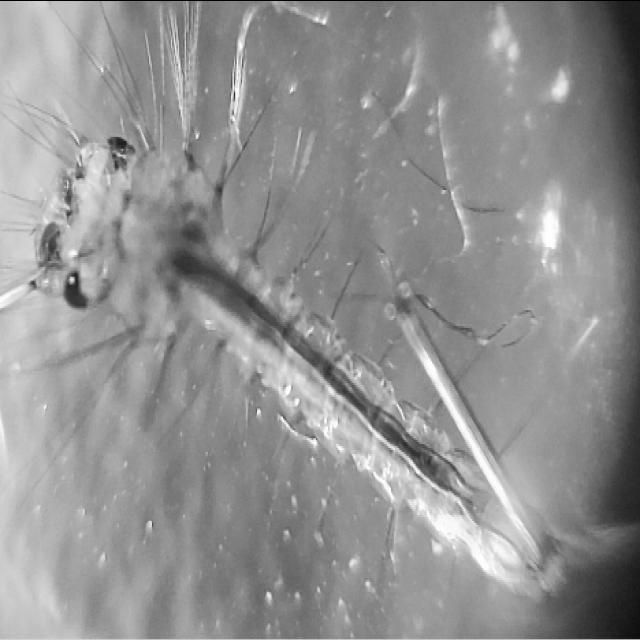larvas: (45, 143, 558, 592)
